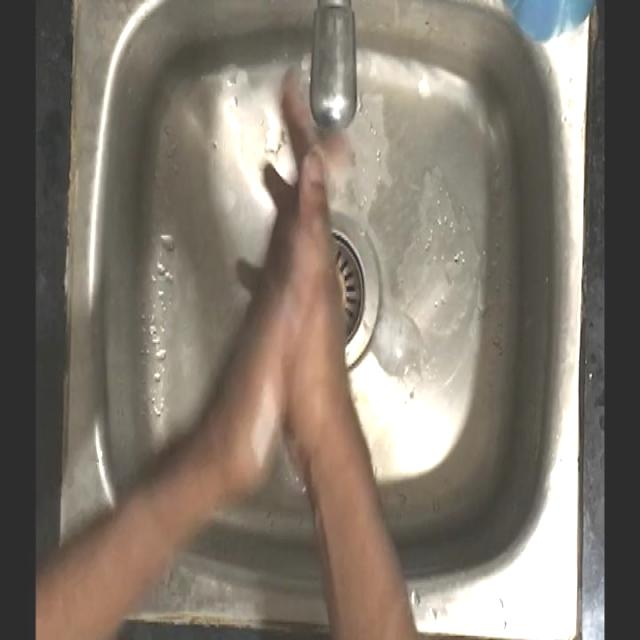step_3: (214, 66, 378, 426)
